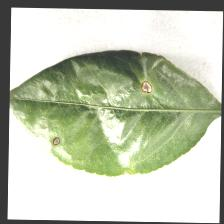canker: (37, 71, 163, 152)
